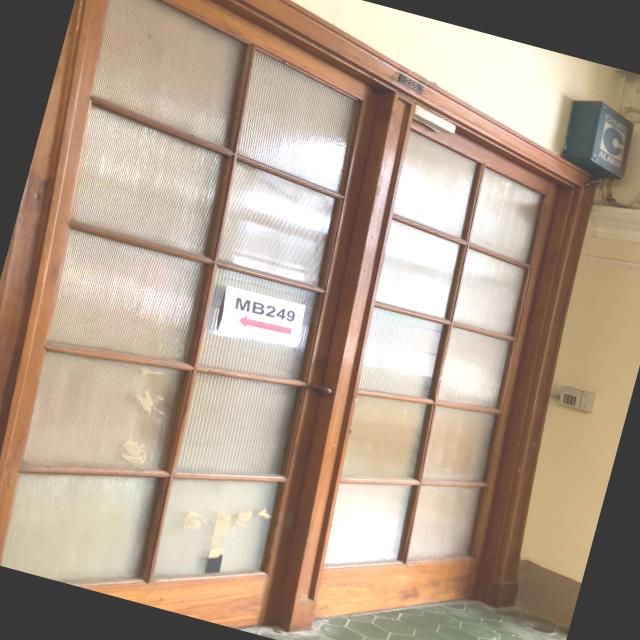room228: (392, 70, 427, 96)
